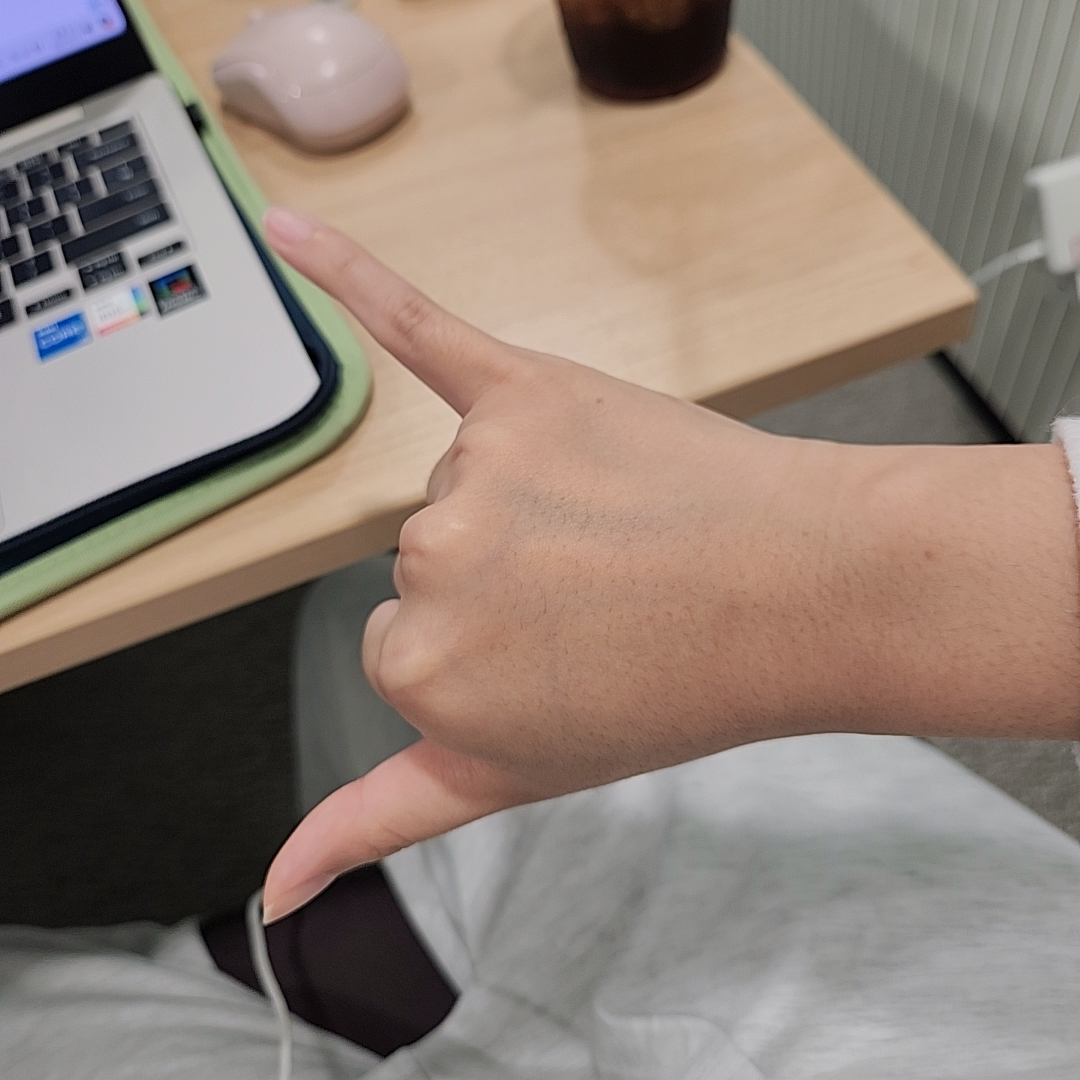call: (261, 209, 762, 931)
